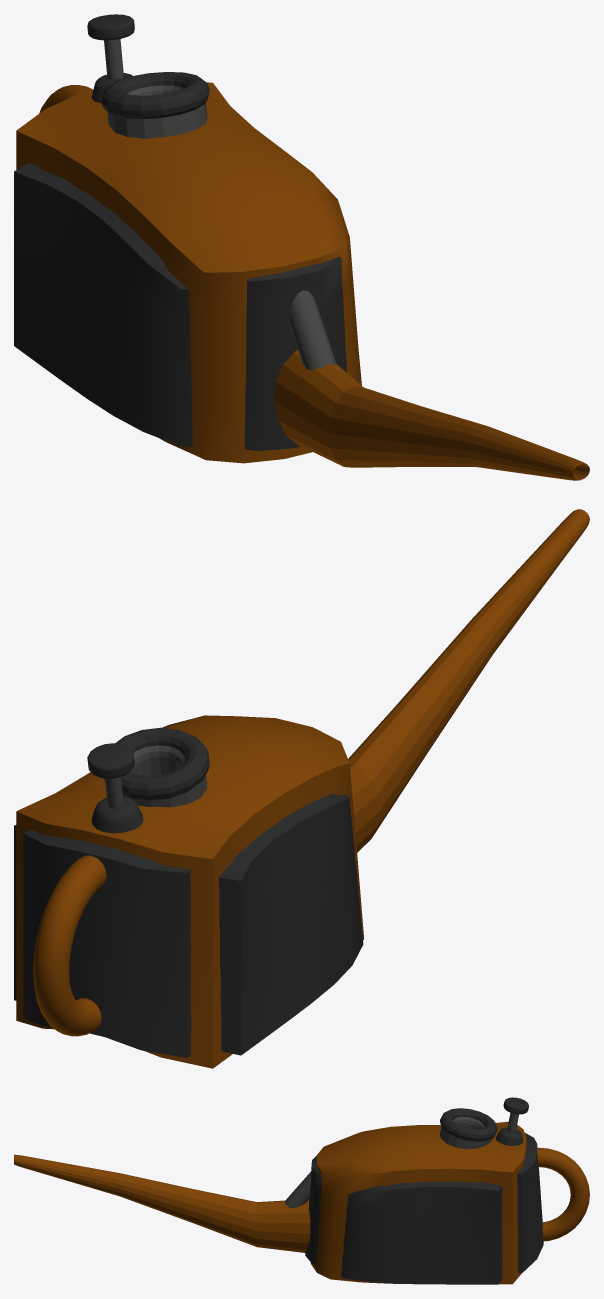
Rendered from Oiler.fbx.
3 views of the same model, one above another, from view 1: azimuth 30°, elevation 25°; view 2: azimuth 150°, elevation 25°; view 3: azimuth 270°, elevation 25° (orthographic). The views are drawn at different scales.
Visible parts, largest first — view 1: Cube_3, Cube_2, Tube, Cube, Tube_2, Tube_1, Cylinder_3, Cylinder_2_2, Cylinder_1; view 2: Cube_3, Cube_2, Cube, Tube, Torus, Tube_2, Tube_1, Cylinder_2_2, Cylinder_3_2; view 3: Cube_2, Cube_3, Tube, Cube, Torus, Tube_2, Tube_1, Cylinder_3, Cylinder_3_2, Cylinder_2_2.
Part boxes in pixels (box(x1,y1,x2,y2)): Cube_3: box(16, 82, 361, 463); Cube_2: box(14, 162, 361, 446); Tube: box(274, 350, 589, 480); Cube: box(244, 257, 346, 450); Tube_2: box(101, 72, 209, 119); Tube_1: box(107, 85, 207, 138); Cylinder_3: box(290, 290, 336, 370); Cylinder_2_2: box(87, 14, 134, 40); Cylinder_1: box(104, 39, 123, 79); Cube_3: box(16, 715, 363, 1068); Cube_2: box(14, 793, 363, 1055); Cube: box(23, 830, 191, 1057); Tube: box(348, 509, 589, 852); Torus: box(33, 855, 106, 1036); Tube_2: box(103, 727, 209, 800); Tube_1: box(123, 745, 207, 807); Cylinder_2_2: box(87, 743, 134, 778); Cylinder_3_2: box(91, 796, 143, 833); Cube_2: box(341, 1181, 502, 1284); Cube_3: box(310, 1121, 526, 1284); Tube: box(14, 1154, 310, 1252); Cube: box(305, 1133, 543, 1272); Torus: box(537, 1147, 589, 1241); Tube_2: box(440, 1108, 497, 1141); Tube_1: box(439, 1116, 492, 1149); Cylinder_3: box(285, 1171, 311, 1208); Cylinder_3_2: box(495, 1127, 523, 1145); Cylinder_2_2: box(503, 1097, 528, 1114).
Bounding box in the file's own units: 17.46 × 21.73 × 71.79.
